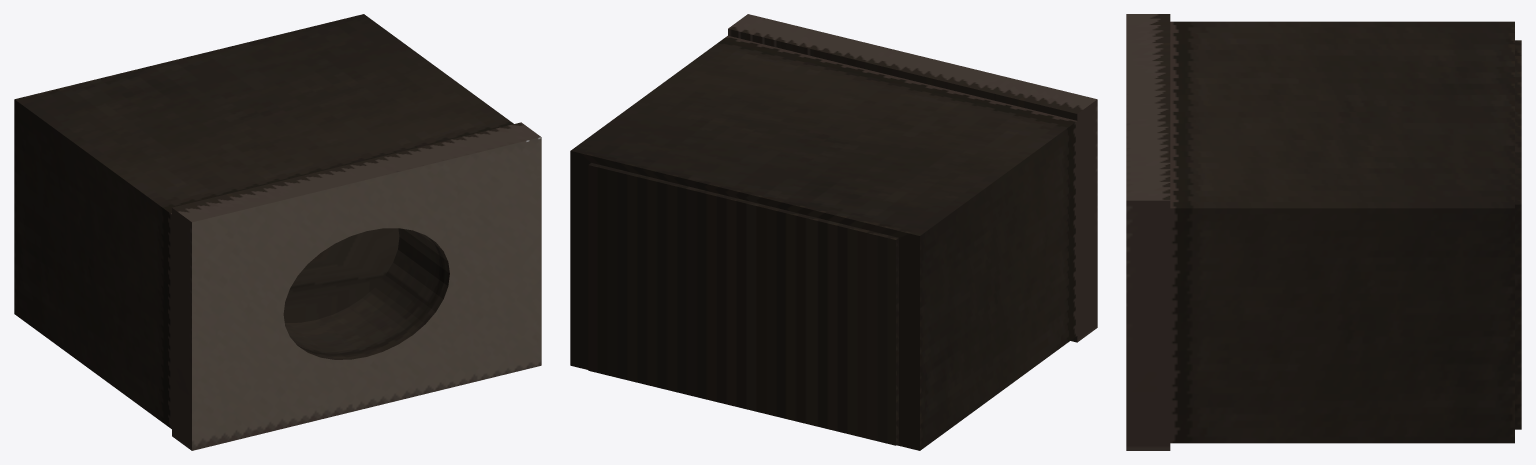
Rendered from pz_counter_dark_floor__sink_inset_oval.obj.
The picture shows the model from 3 angles, left to right: view 1: azimuth 30°, elevation 25°; view 2: azimuth 150°, elevation 25°; view 3: azimuth 270°, elevation 25°; orthographic projection. The views are drawn at different scales.
Size of the model in its own units: 1 by 0.6266 by 0.895.
1 material, 1 textured.
